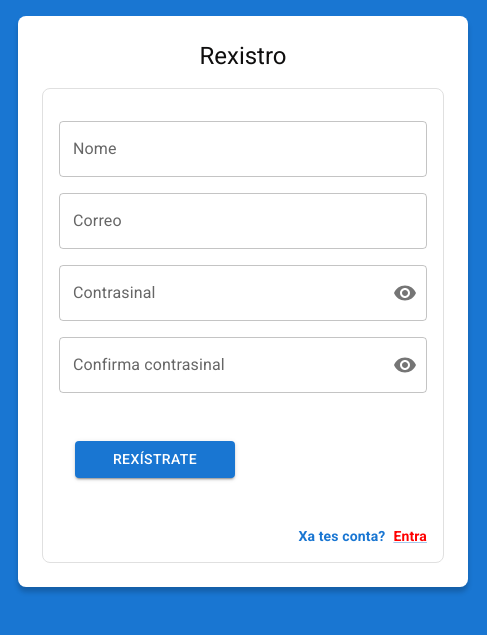
Scenario: Register Page › should render the backend error message
Type "TestUser" into the field labelled "Nome" at (243, 149), box [59, 121, 427, 177]
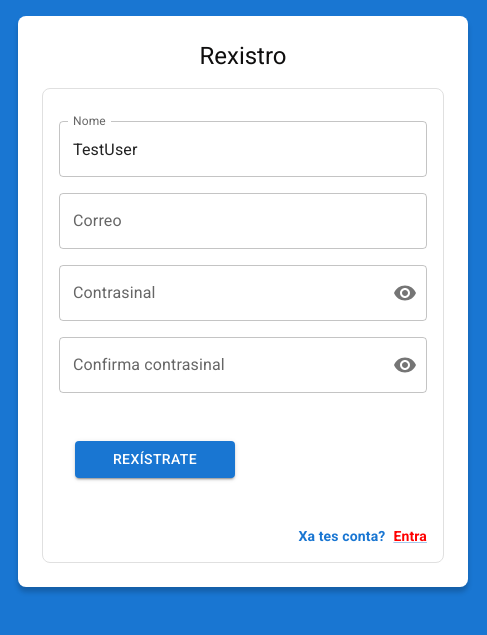
Type "te@dsa.com" into the field labelled "Correo" at (243, 221), box [59, 193, 427, 249]
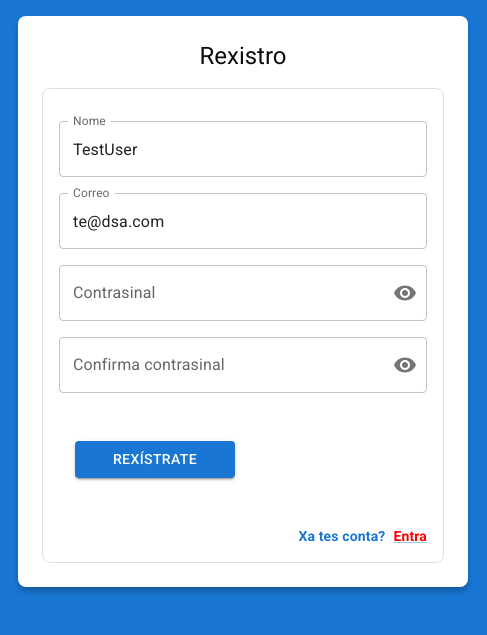
Type "Password.123" into the password field labelled "Contrasinal" at (218, 293), box [59, 265, 377, 321]
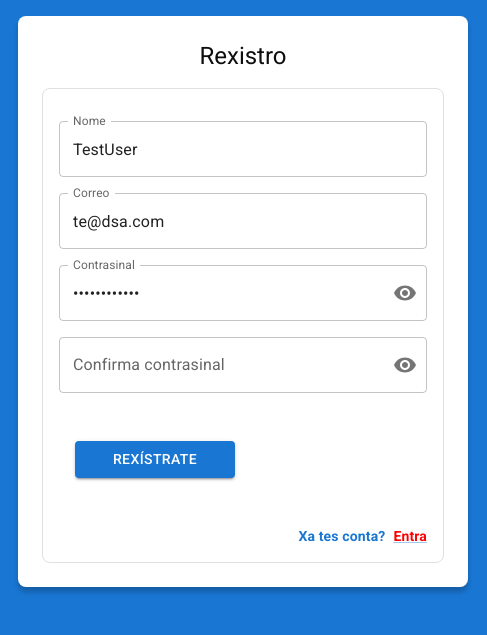
Type "Password.123" into the password field labelled "Confirma contrasinal" at (218, 365), box [59, 337, 377, 393]
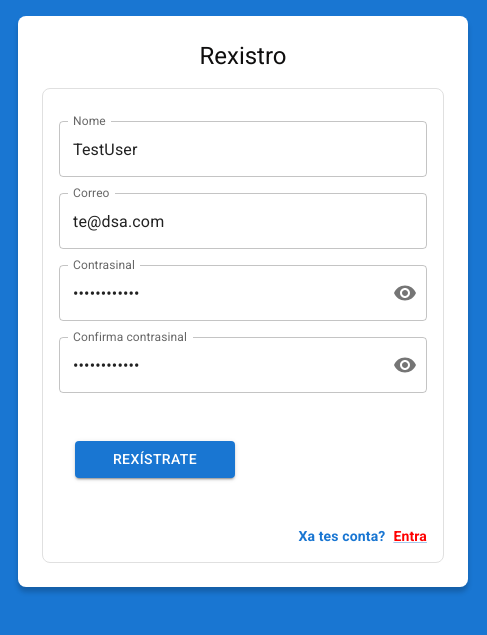
Click the button "Rexístrate" at (155, 459), box [75, 441, 235, 478]
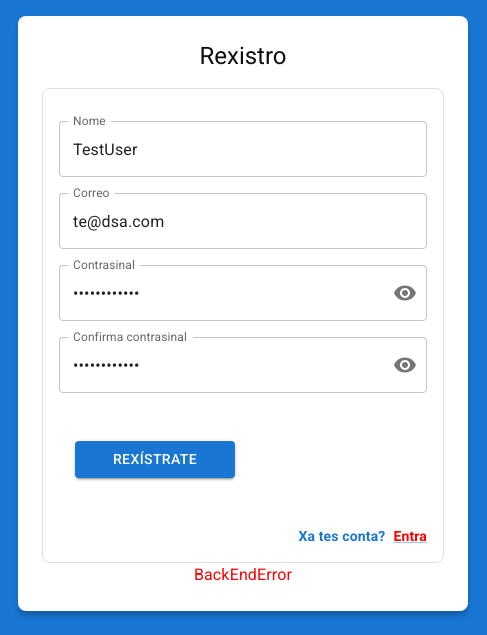
Now the text "BackEndError" is shown, box [194, 564, 292, 584]
